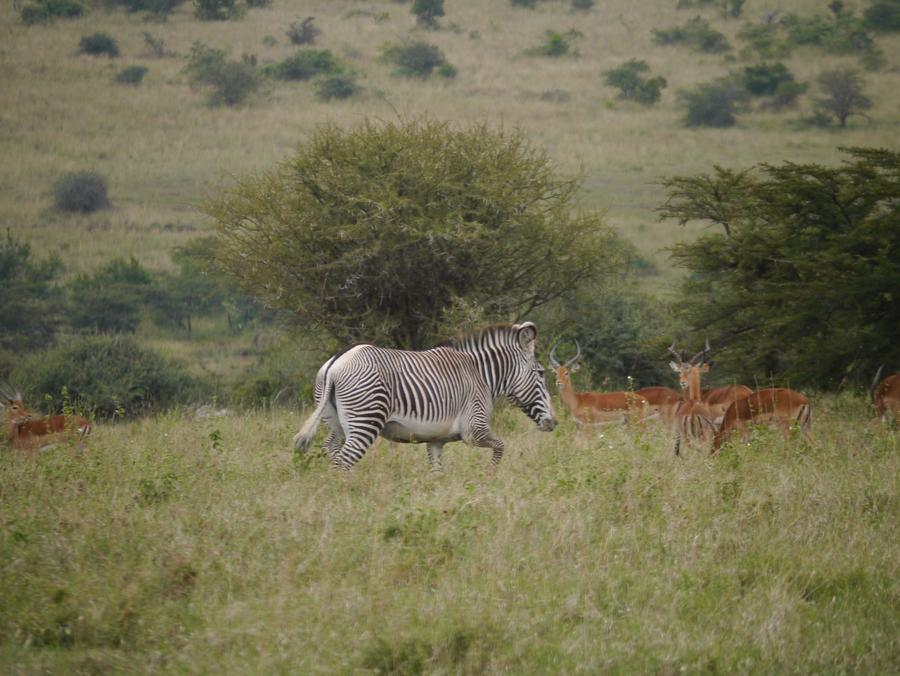zebra_grevys: (320, 336, 492, 428)
